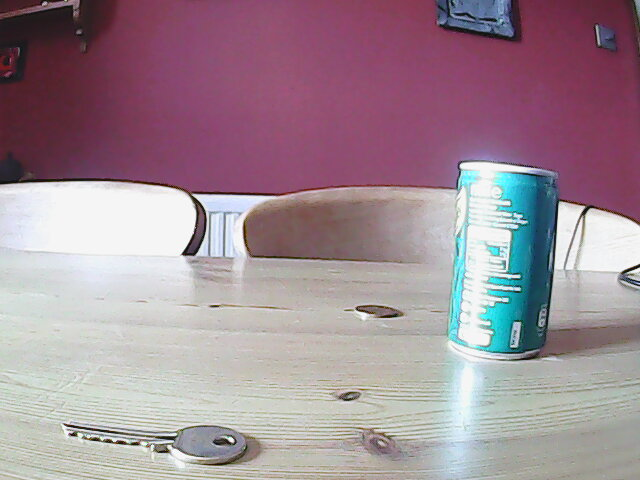Can: (445, 158, 563, 361)
Coin: (351, 302, 401, 319)
Key: (59, 416, 251, 468)
